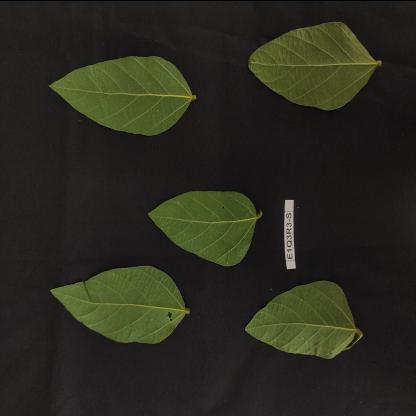label: (276, 188, 302, 272)
leaflets: (232, 10, 391, 124), (40, 23, 198, 133), (236, 277, 376, 380), (47, 259, 190, 356), (141, 161, 264, 269)
